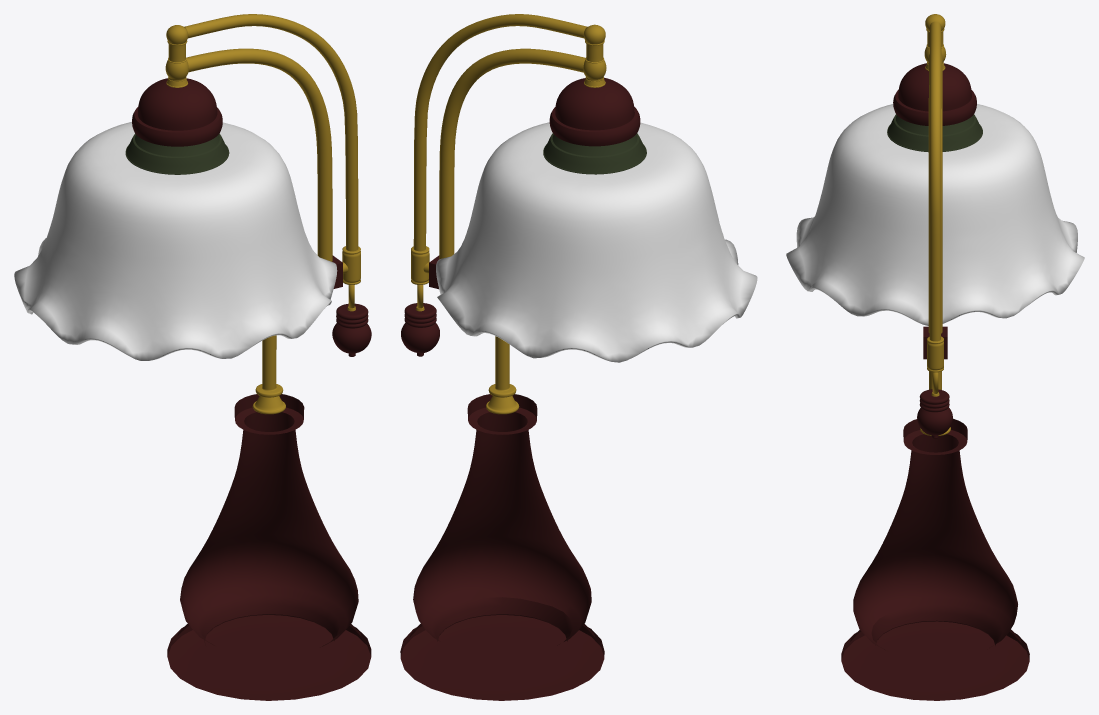
File: PF_TableLamp.fbx
3 renders of one model, left to right at view 1: azimuth 30°, elevation 25°; view 2: azimuth 150°, elevation 25°; view 3: azimuth 270°, elevation 25°, orthographic. The views are drawn at different scales.
Parts seen in each view (by area): view 1: Retopo_Cylinder.002, Retopo_Circle, Cylinder.001, Circle.002, Retopo_Circle.004, Roundcube, Retopo_Cylinder.005, Circle.001, Retopo_Circle.005; view 2: Retopo_Cylinder.002, Retopo_Circle, Cylinder.001, Circle.002, Retopo_Circle.004, Roundcube, Retopo_Cylinder.005, Circle.001, Retopo_Circle.005; view 3: Retopo_Cylinder.002, Retopo_Circle, Cylinder.001, Retopo_Circle.004, Roundcube, Retopo_Cylinder.005, Circle.002, Retopo_Circle.005.
Boxes of the visible parts, x1,y1,x2,y2 form: Retopo_Cylinder.002: (14, 122, 337, 360); Retopo_Circle: (167, 394, 371, 700); Cylinder.001: (184, 14, 360, 311); Circle.002: (186, 48, 332, 261); Retopo_Circle.004: (125, 107, 229, 174); Roundcube: (138, 78, 217, 130); Retopo_Cylinder.005: (332, 303, 371, 356); Circle.001: (252, 262, 348, 414); Retopo_Circle.005: (165, 25, 188, 87); Retopo_Cylinder.002: (436, 122, 757, 362); Retopo_Circle: (400, 394, 604, 700); Cylinder.001: (411, 14, 587, 311); Circle.002: (439, 48, 585, 259); Retopo_Circle.004: (543, 106, 646, 174); Roundcube: (555, 77, 634, 130); Retopo_Cylinder.005: (401, 303, 439, 356); Circle.001: (423, 262, 519, 414); Retopo_Circle.005: (583, 24, 606, 87); Retopo_Cylinder.002: (786, 104, 1084, 325); Retopo_Circle: (841, 418, 1029, 700); Cylinder.001: (927, 21, 943, 396); Retopo_Circle.004: (887, 90, 982, 152); Roundcube: (898, 63, 971, 111); Retopo_Cylinder.005: (917, 389, 952, 438); Circle.002: (928, 53, 942, 333); Retopo_Circle.005: (924, 14, 946, 70).
Bounding box in the file's own units: 642 × 1211 × 541.
